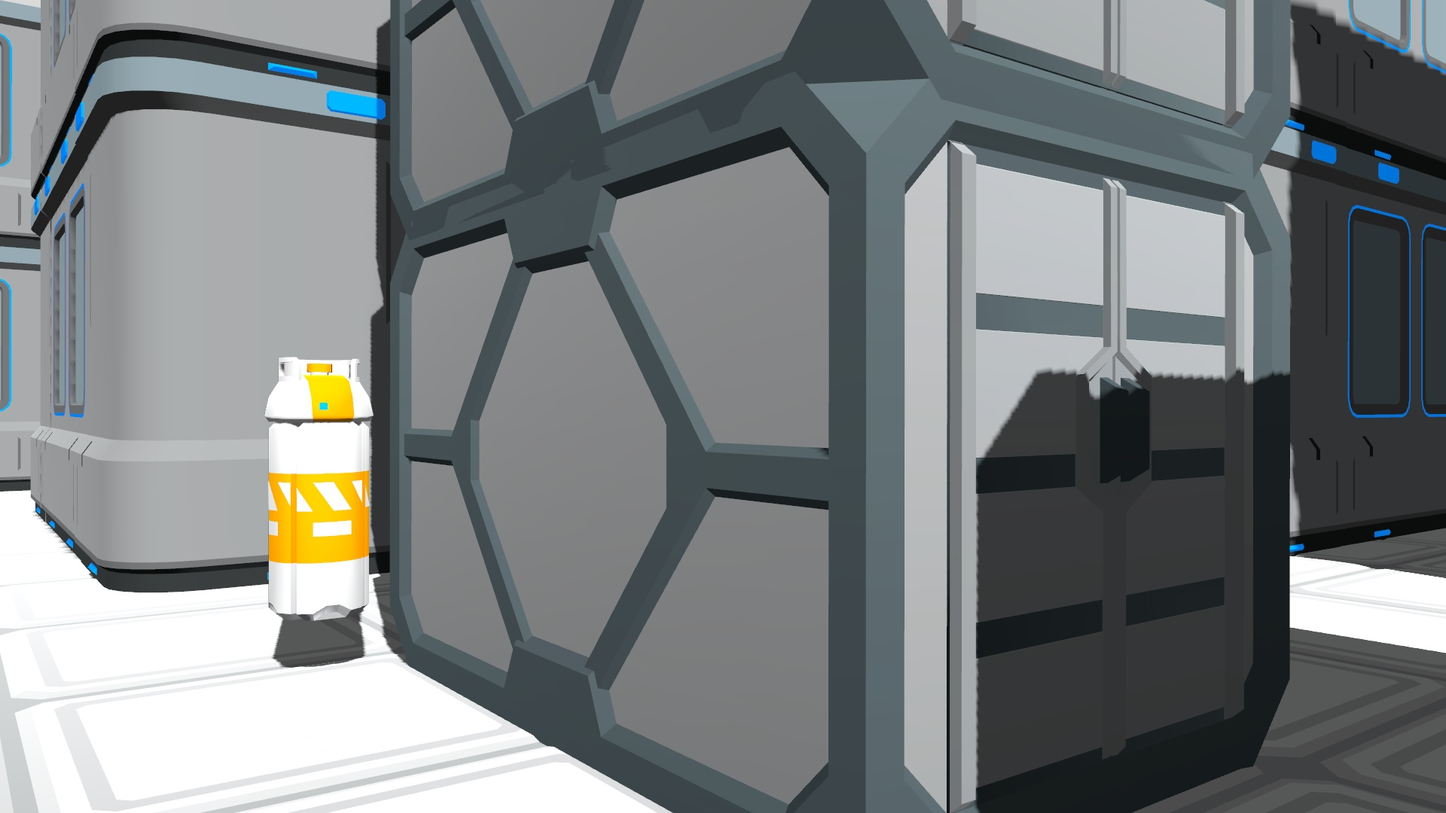yellow_barrel: (261, 346, 382, 629)
